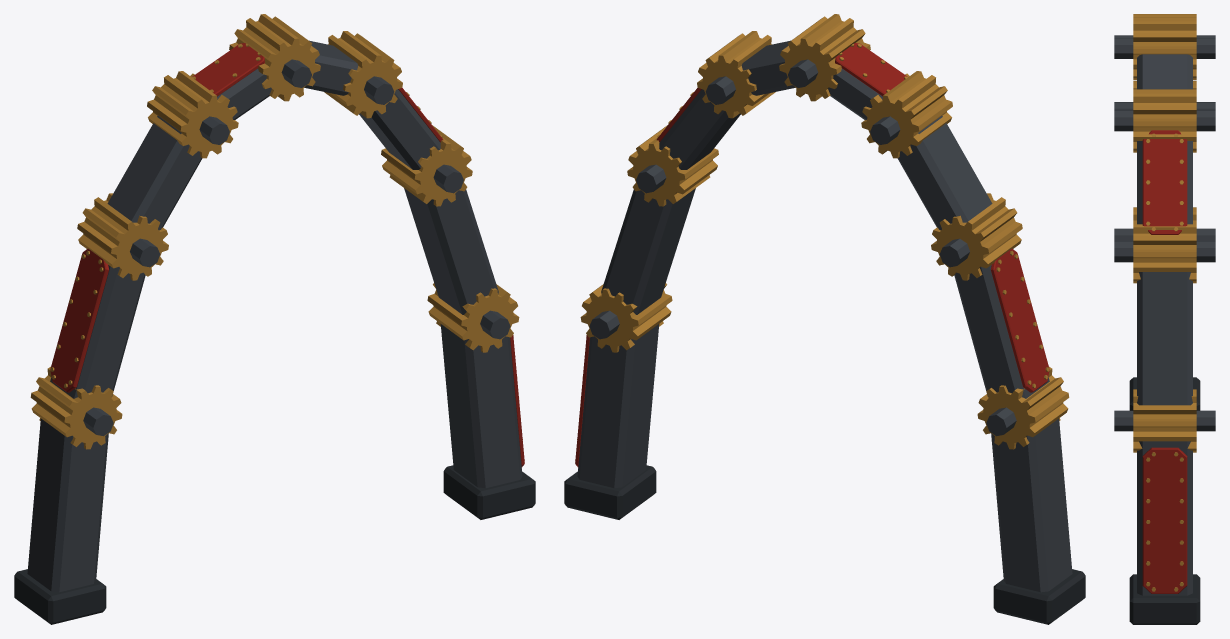
File: cog_walker_rib.fbx
3 views of the same model, side by side, from view 1: azimuth 30°, elevation 25°; view 2: azimuth 150°, elevation 25°; view 3: azimuth 270°, elevation 25° (orthographic). The views are drawn at different scales.
Parts seen in each view (by area): view 1: Body; view 2: Body; view 3: Body.
Boxes of the visible parts, x1,y1,x2,y2 form: Body: (14,14,535,624); Body: (564,14,1085,624); Body: (1114,14,1215,624).
Bounding box in the file's own units: 28.4 × 29.29 × 5.44.
Materials: 1 (1 with a texture image).
